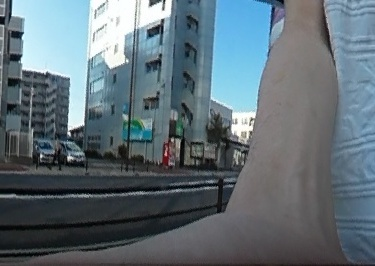person: (52, 134, 64, 169)
